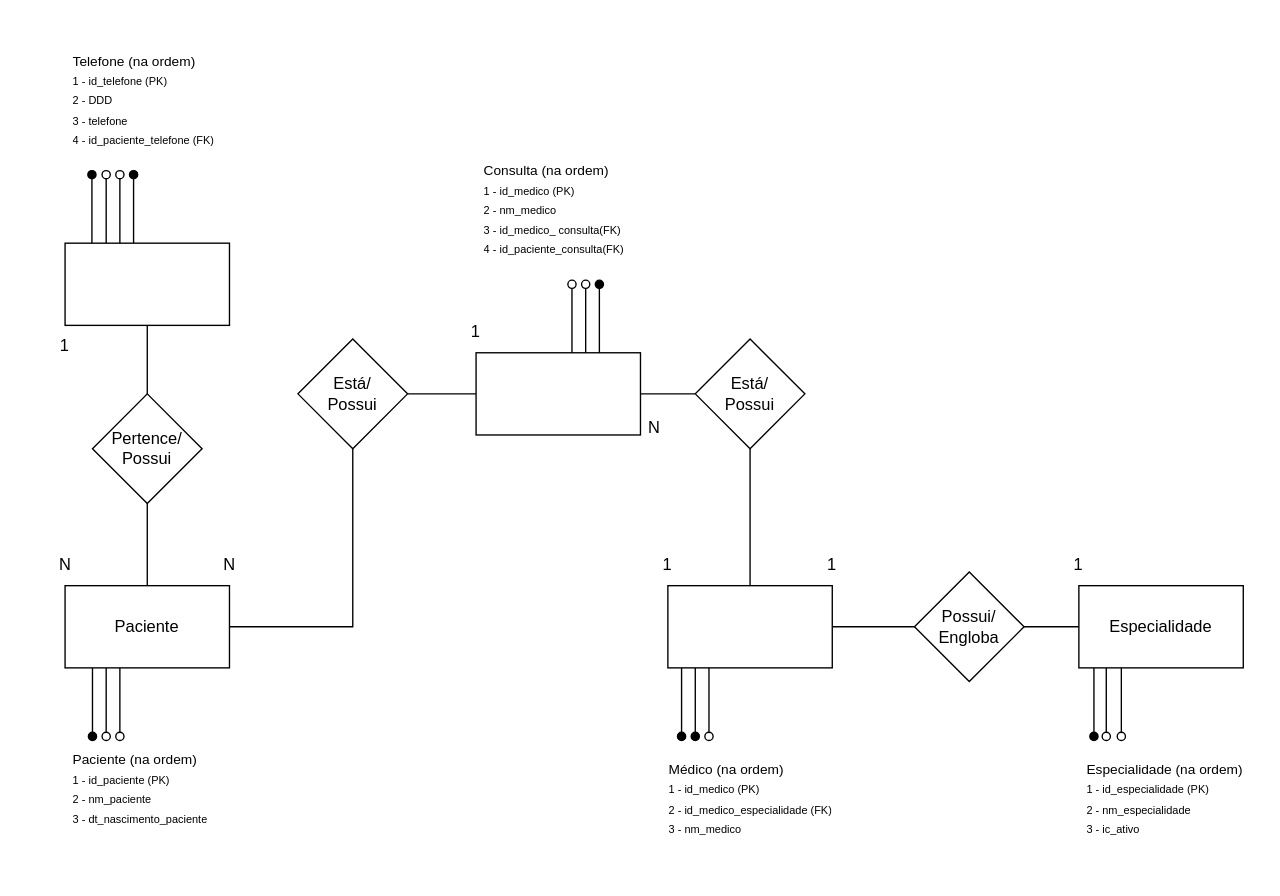
Some shapes in this 1280 by 896 pixel diagram are drawn without their labels. Each missing label, with the centre of its shape:
Consulta: (557,393)
Médico: (749,626)
Telefone: (146,283)
